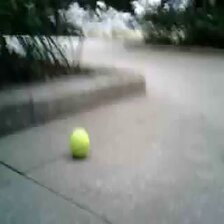tennis: (68, 128, 91, 155)
